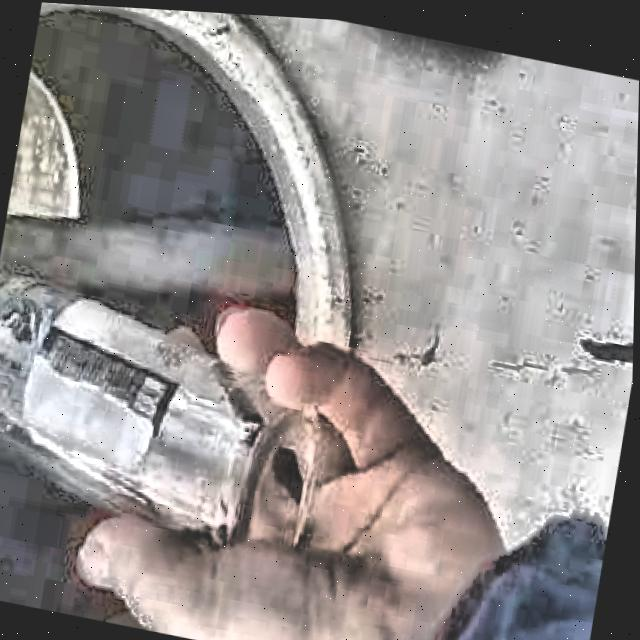glass: (0, 273, 321, 540)
